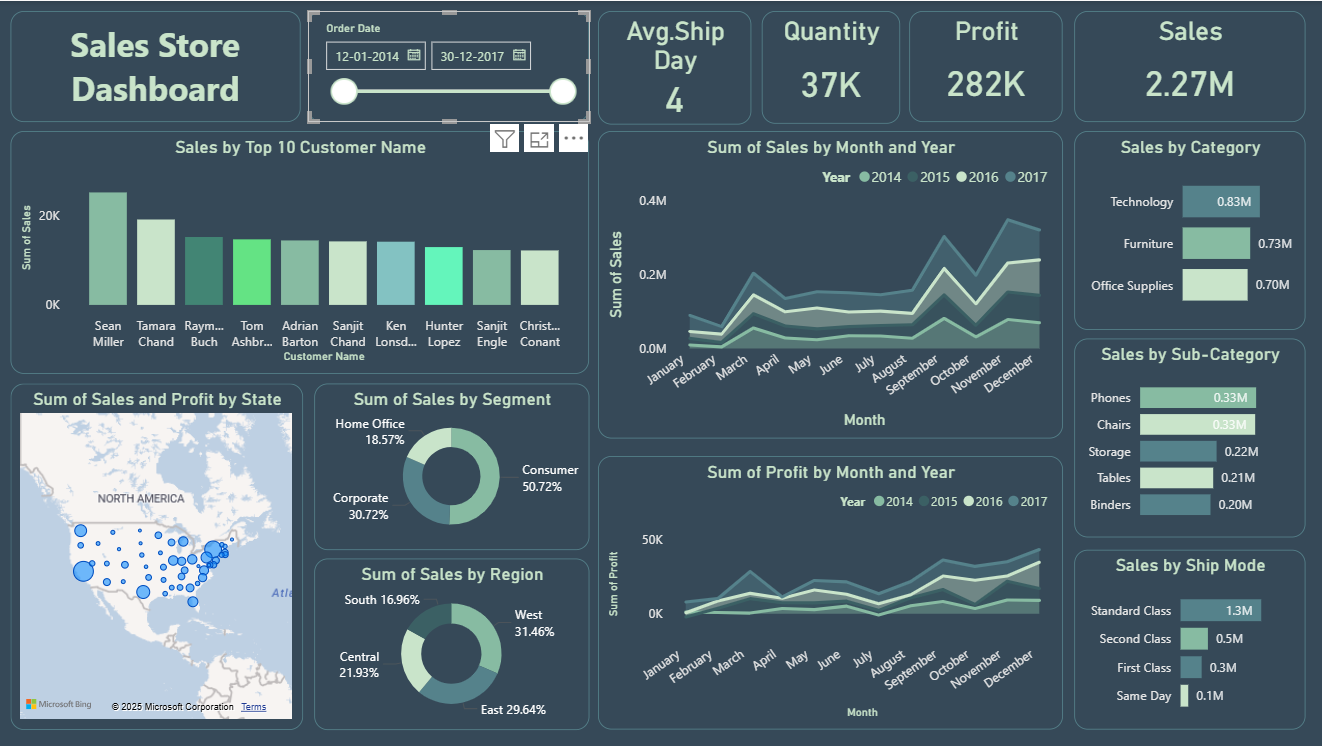

What the dashboard file says about the page in this screenshot:
{"tool":"powerbi","page":{"name":"Page 1","canvas":[1280,720],"ordinal":0},"visuals":[{"type":"clusteredBarChart","title":" Sales by Category","fields":{"Category":["karmdb superstore.Category"],"Y":["karmdb superstore.Sales"]},"box":[1038.7,125.5,223.2,191.8],"z":0},{"type":"clusteredBarChart","title":" Sales by Sub-Category","fields":{"Category":["karmdb superstore.Sub-Category"],"Y":["karmdb superstore.Sales"]},"box":[1038.7,325.7,223.2,191.8],"z":1000},{"type":"clusteredBarChart","title":" Sales by Ship Mode","fields":{"Category":["karmdb superstore.Ship Mode"],"Y":["karmdb superstore.Sales"]},"box":[1038.7,529.6,223.2,173.7],"z":2000},{"type":"stackedAreaChart","fields":{"Y":["karmdb superstore.Sales"],"Category":["karmdb superstore.Order Date.Variation.Date Hierarchy.Month"],"Series":["karmdb superstore.Order Date.Variation.Date Hierarchy.Year"]},"box":[579.1,125.5,448.8,296.8],"z":3000},{"type":"stackedAreaChart","fields":{"Category":["karmdb superstore.Order Date.Variation.Date Hierarchy.Month"],"Series":["karmdb superstore.Order Date.Variation.Date Hierarchy.Year"],"Y":["karmdb superstore.Profit"]},"box":[579.1,439.1,448.8,264.2],"z":4000},{"type":"donutChart","fields":{"Y":["karmdb superstore.Sales"],"Category":["karmdb superstore.Segment"]},"box":[305.2,369.2,265.4,160.5],"z":5000},{"type":"donutChart","fields":{"Y":["karmdb superstore.Sales"],"Category":["karmdb superstore.Region"]},"box":[305.2,538.1,265.4,165.3],"z":6000},{"type":"map","title":"Sum of Sales and Profit by State","fields":{"Category":["karmdb superstore.State"],"Size":["karmdb superstore.Sales"]},"box":[12.1,369.2,282.3,334.2],"z":7000},{"type":"clusteredColumnChart","title":"Sales by Top 10 Customer Name","fields":{"Category":["karmdb superstore.Customer Name"],"Y":["karmdb superstore.Sales"]},"box":[12.1,125.5,558.6,234],"z":8000},{"type":"slicer","fields":{"Values":["karmdb superstore.Order Date"]},"box":[299.2,9.7,271.4,107.4],"z":8001},{"type":"textbox","box":[12.1,9.7,279.9,107.4],"z":8002},{"type":"card","title":" Sales","fields":{"Values":["karmdb superstore.Sales"]},"box":[1038.7,9.7,223.2,107.4],"z":8003},{"type":"card","title":"Profit","fields":{"Values":["karmdb superstore.Profit"]},"box":[879.5,9.7,148.4,107.4],"z":8004},{"type":"card","title":"Quantity","fields":{"Values":["karmdb superstore.Quantity"]},"box":[737.1,9.7,133.9,108.6],"z":8005},{"type":"card","title":"Avg.Ship Day","fields":{"Values":["karmdb superstore.AvgDelivery"]},"box":[579.1,9.7,148.4,109.8],"z":8006}]}

Visuals, with their boxes in screenshot pixels (x1, y1, x2, y2), scaled from the page's 1280x720 canvas onto the 1322x746 screenshot:
" Sales by Category" clusteredBarChart: [left=1073, top=130, right=1303, bottom=329]
" Sales by Sub-Category" clusteredBarChart: [left=1073, top=337, right=1303, bottom=536]
" Sales by Ship Mode" clusteredBarChart: [left=1073, top=549, right=1303, bottom=729]
stackedAreaChart - karmdb superstore.Sales x karmdb superstore.Order Date.Variation.Date Hierarchy.Month: [left=598, top=130, right=1062, bottom=438]
stackedAreaChart - karmdb superstore.Order Date.Variation.Date Hierarchy.Month x karmdb superstore.Order Date.Variation.Date Hierarchy.Year: [left=598, top=455, right=1062, bottom=729]
donutChart - karmdb superstore.Sales x karmdb superstore.Segment: [left=315, top=383, right=589, bottom=549]
donutChart - karmdb superstore.Sales x karmdb superstore.Region: [left=315, top=558, right=589, bottom=729]
"Sum of Sales and Profit by State" map: [left=12, top=383, right=304, bottom=729]
"Sales by Top 10 Customer Name" clusteredColumnChart: [left=12, top=130, right=589, bottom=372]
slicer - karmdb superstore.Order Date: [left=309, top=10, right=589, bottom=121]
textbox: [left=12, top=10, right=302, bottom=121]
" Sales" card: [left=1073, top=10, right=1303, bottom=121]
"Profit" card: [left=908, top=10, right=1062, bottom=121]
"Quantity" card: [left=761, top=10, right=900, bottom=123]
"Avg.Ship Day" card: [left=598, top=10, right=751, bottom=124]
